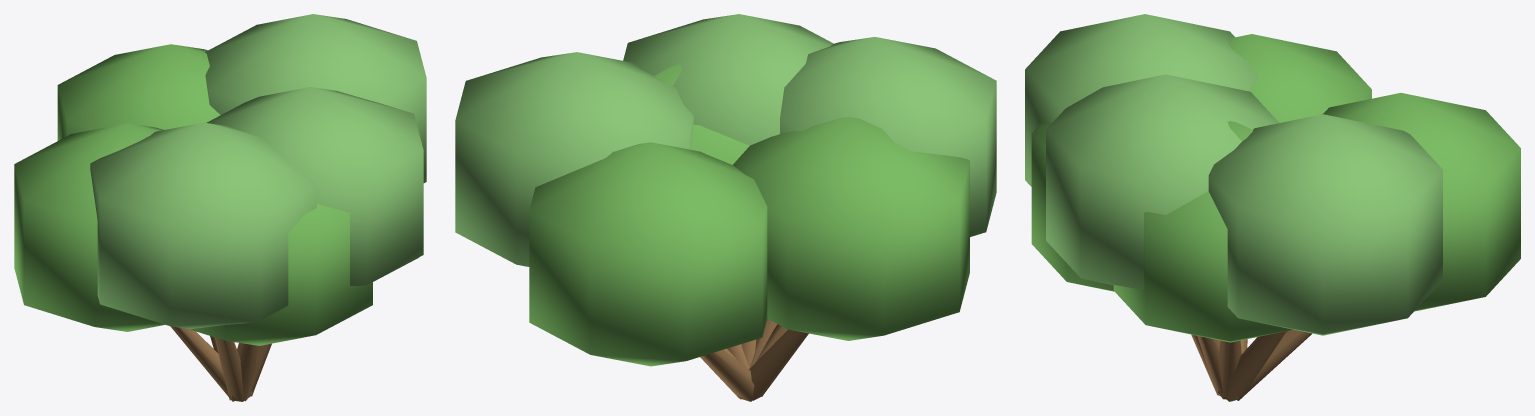
Rendered from shrub_01.glb.
3 views of the same model, side by side, from view 1: azimuth 30°, elevation 25°; view 2: azimuth 150°, elevation 25°; view 3: azimuth 270°, elevation 25° (orthographic). The views are drawn at different scales.
Bounding box in the file's own units: 0.6411 × 0.4663 × 0.6085.
